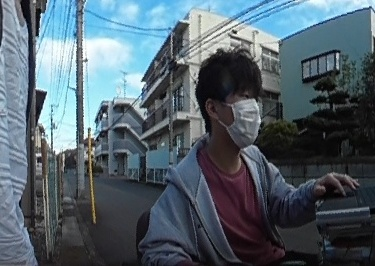person: (145, 50, 331, 266)
